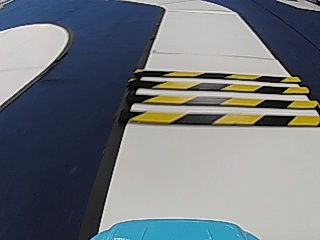bump: (148, 68, 281, 126)
